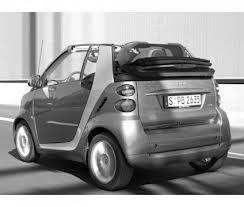car: (13, 38, 236, 192)
